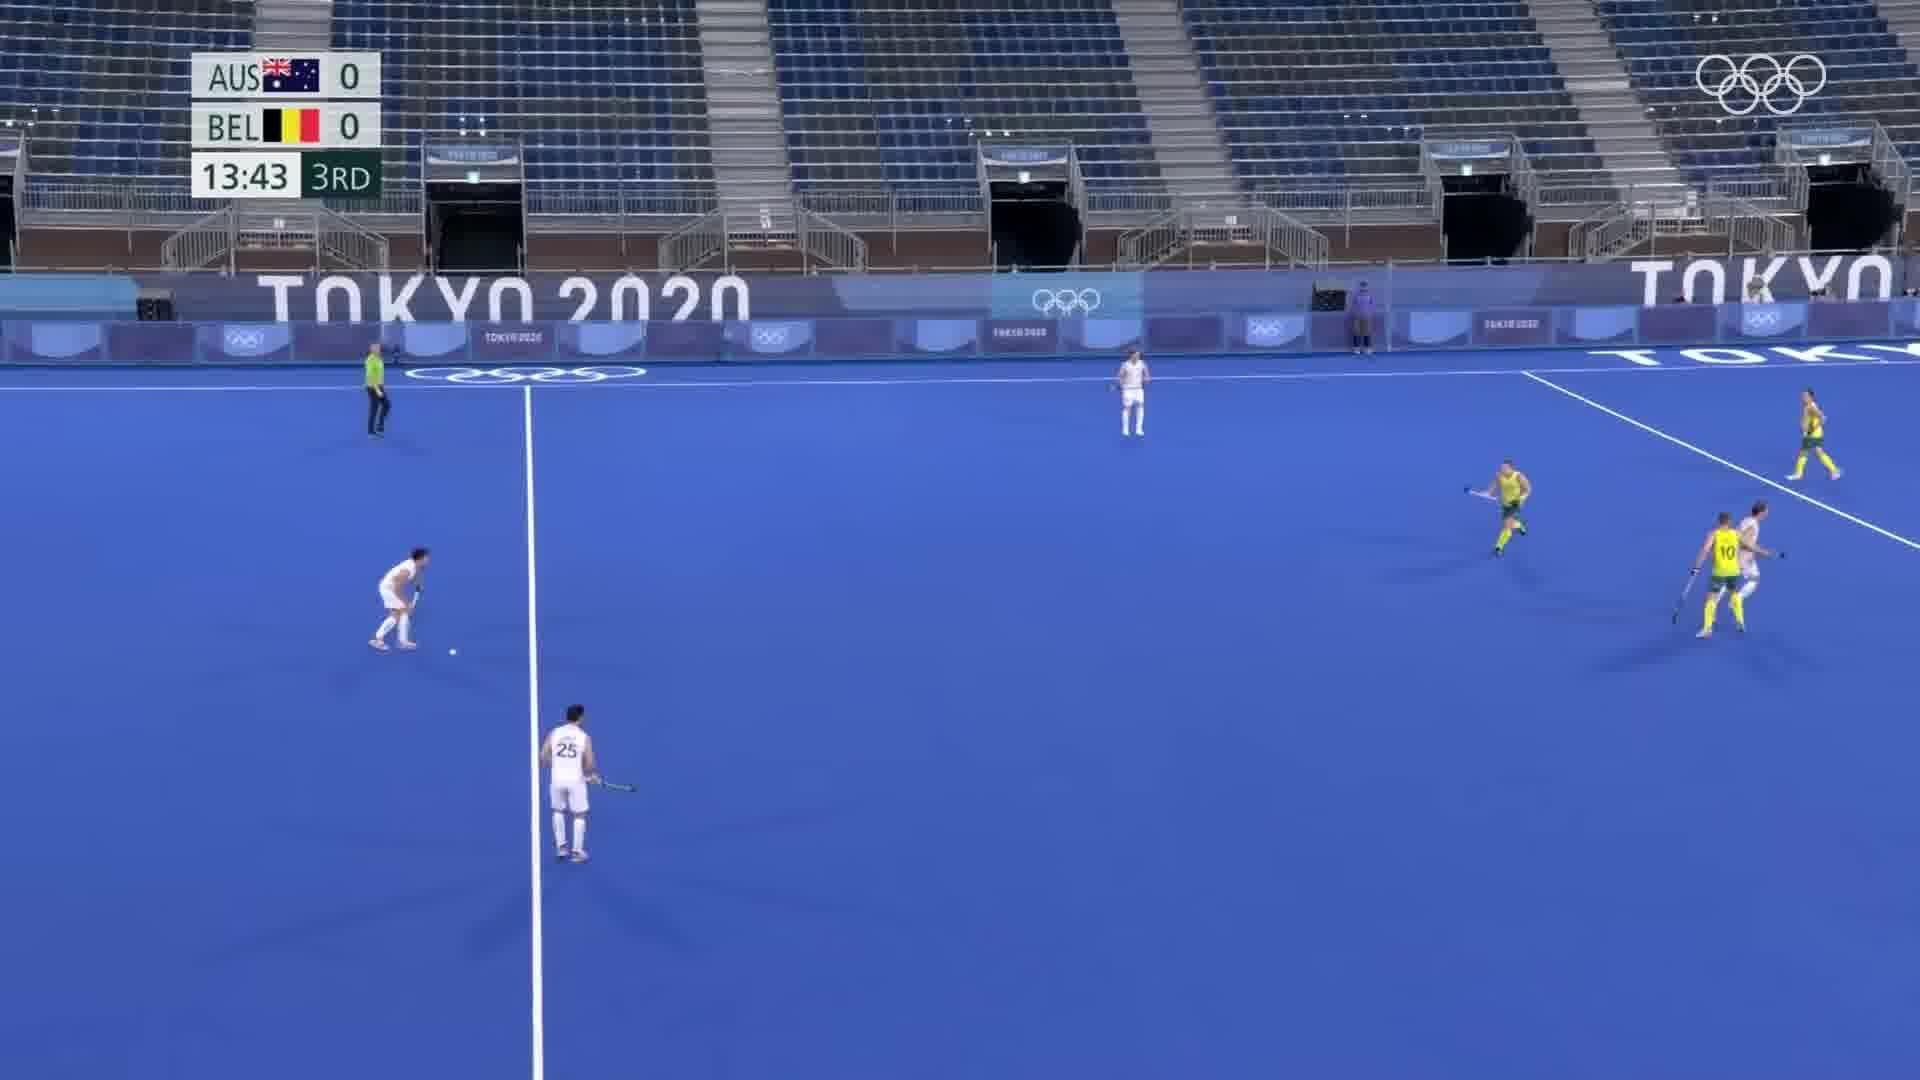ball: (440, 642, 465, 659)
